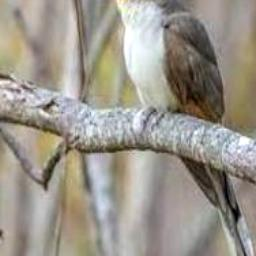Cuckoo: (95, 0, 256, 256)
